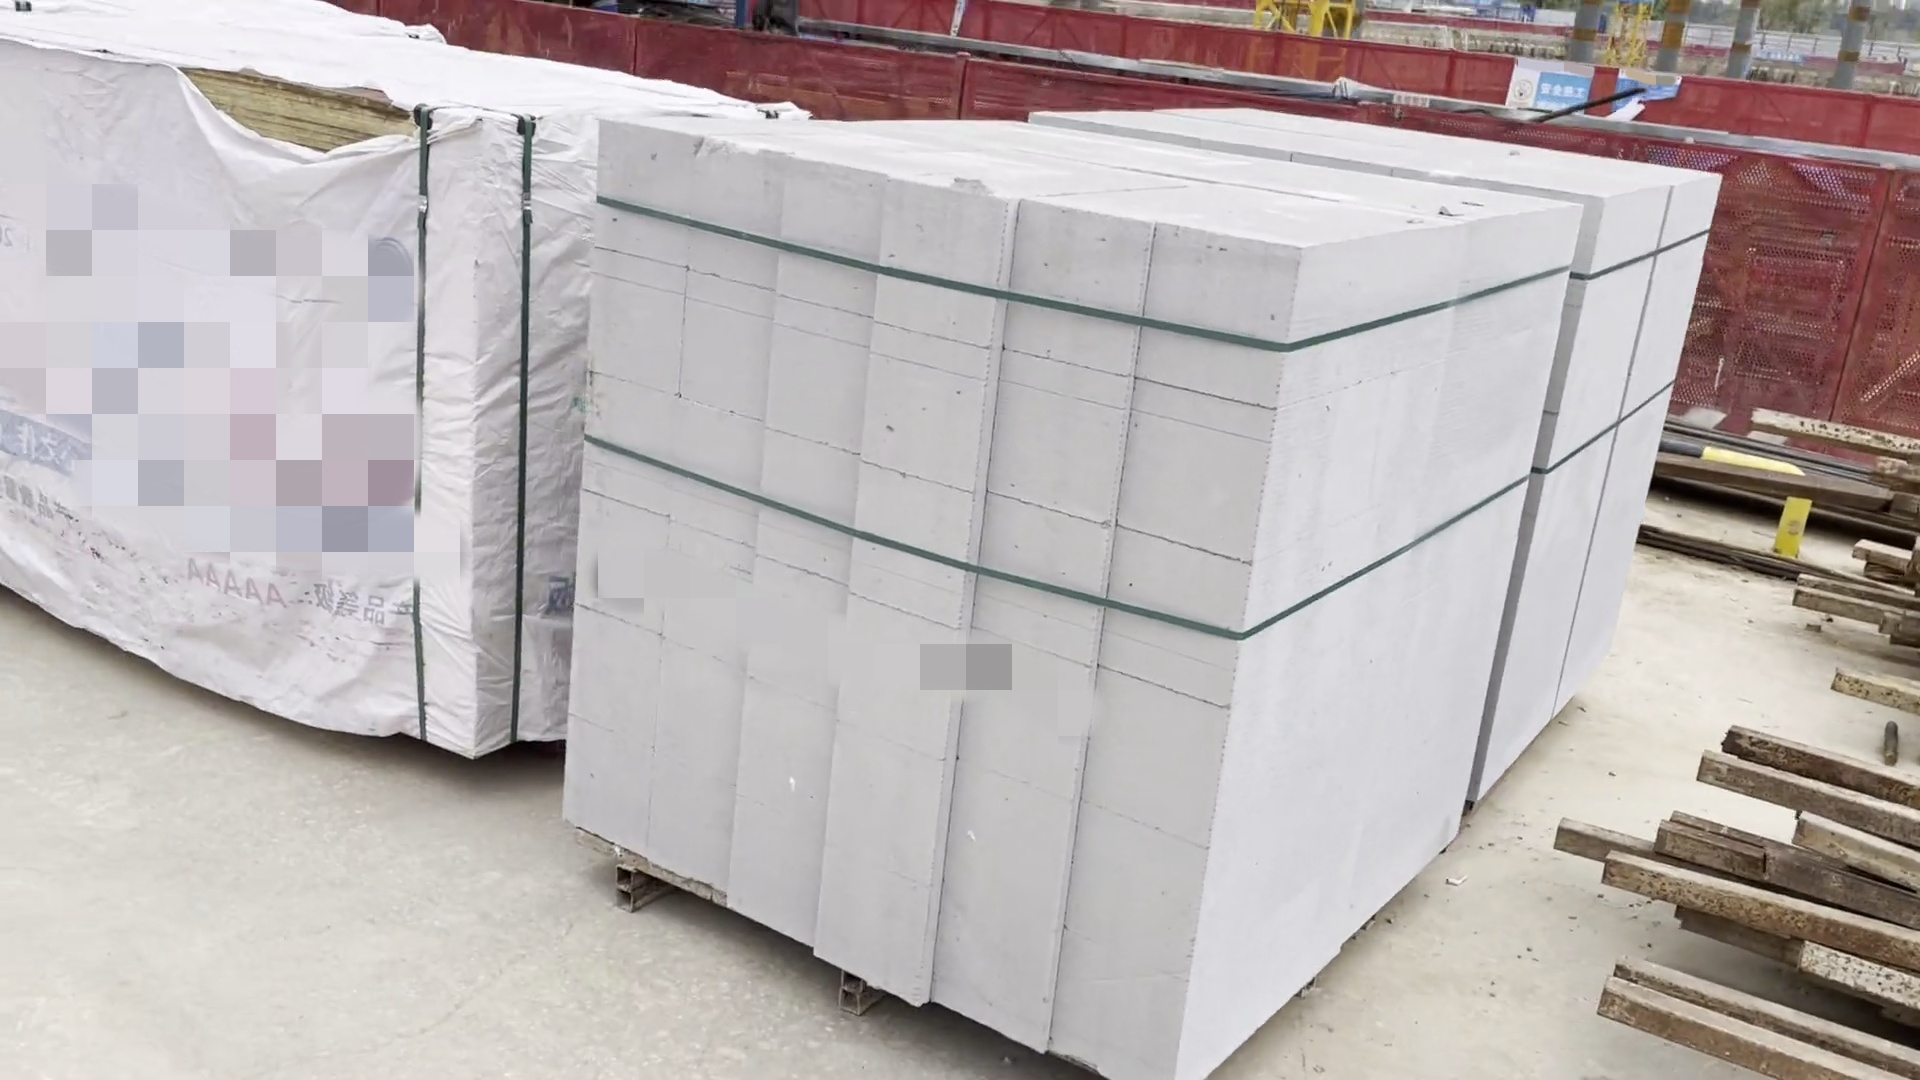brick: (560, 127, 1716, 1080)
